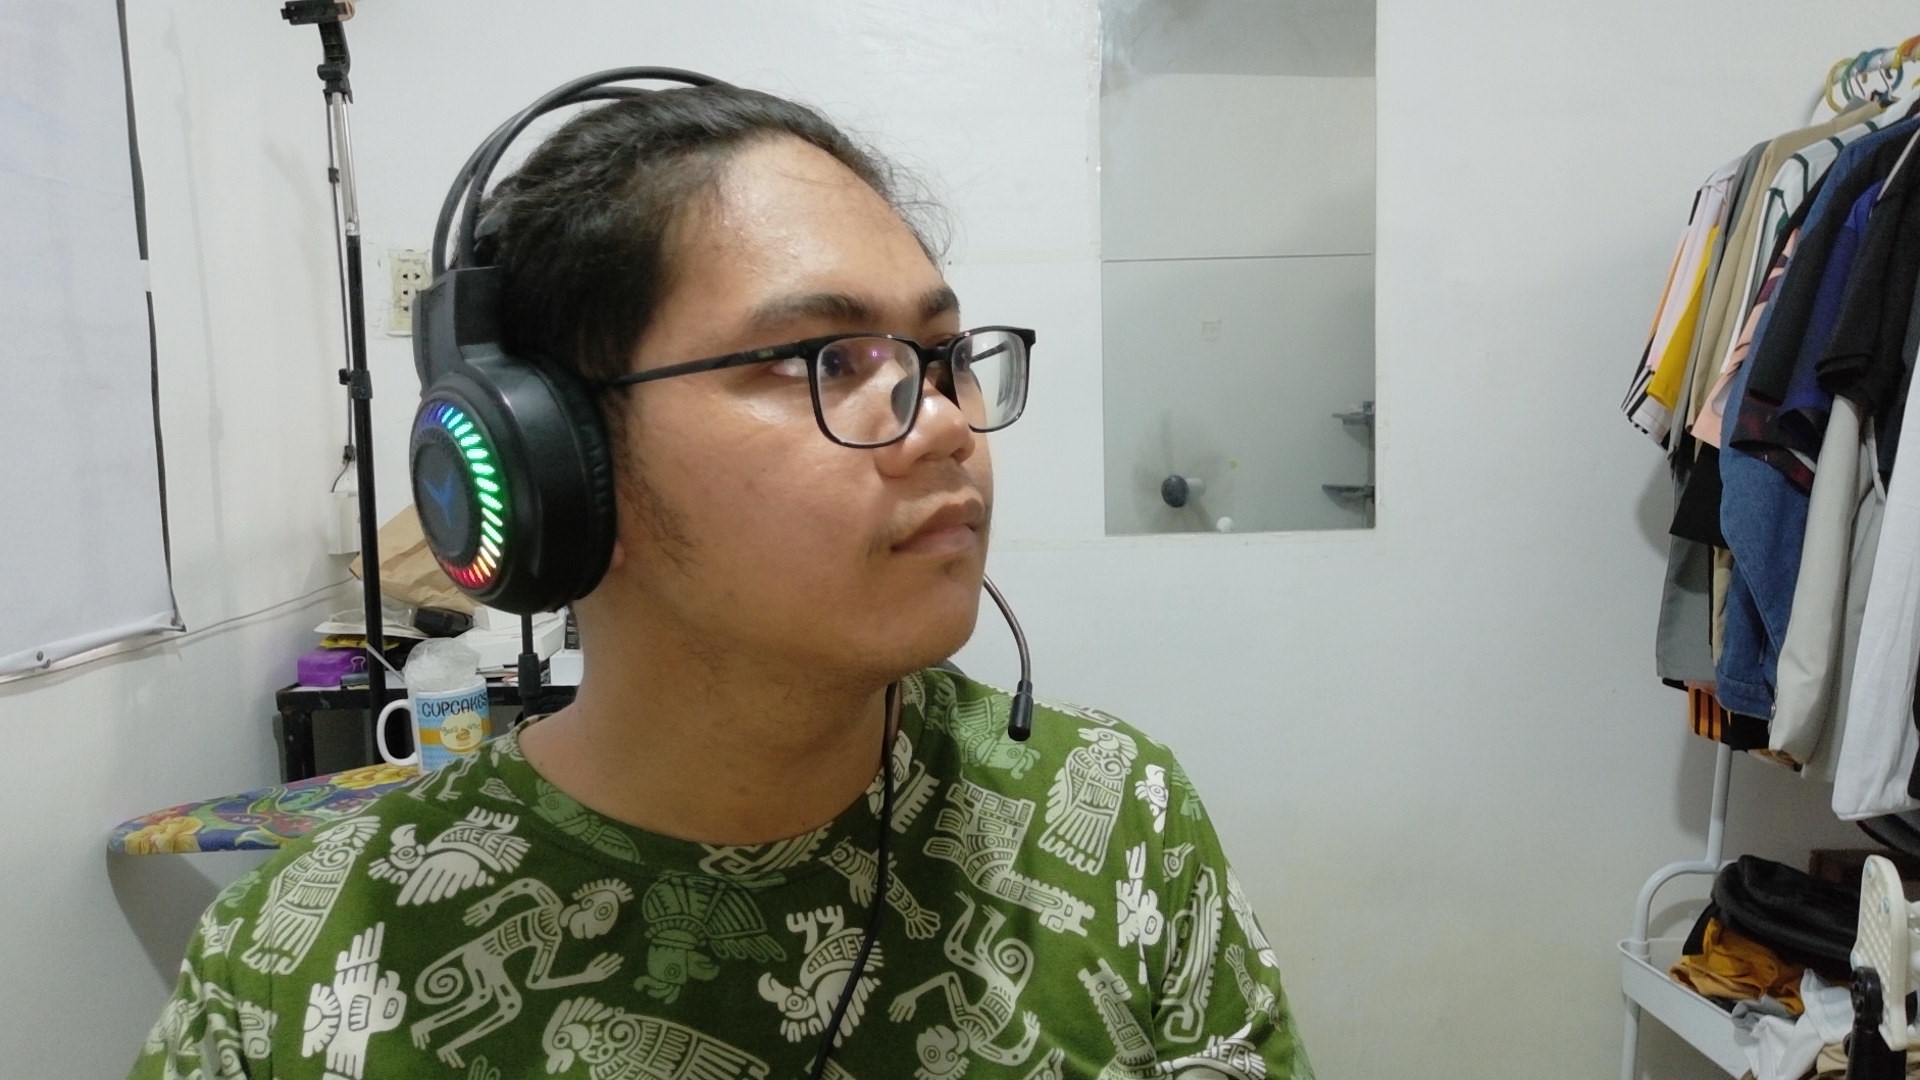face: (367, 43, 1085, 693)
